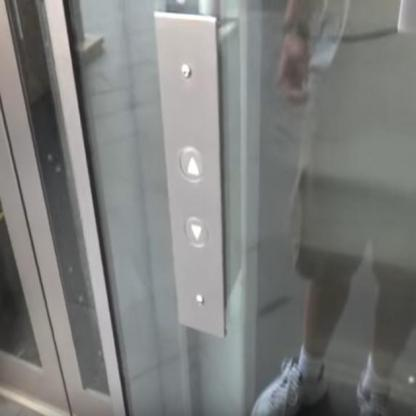down: (183, 215, 209, 247)
up: (178, 144, 206, 182)
